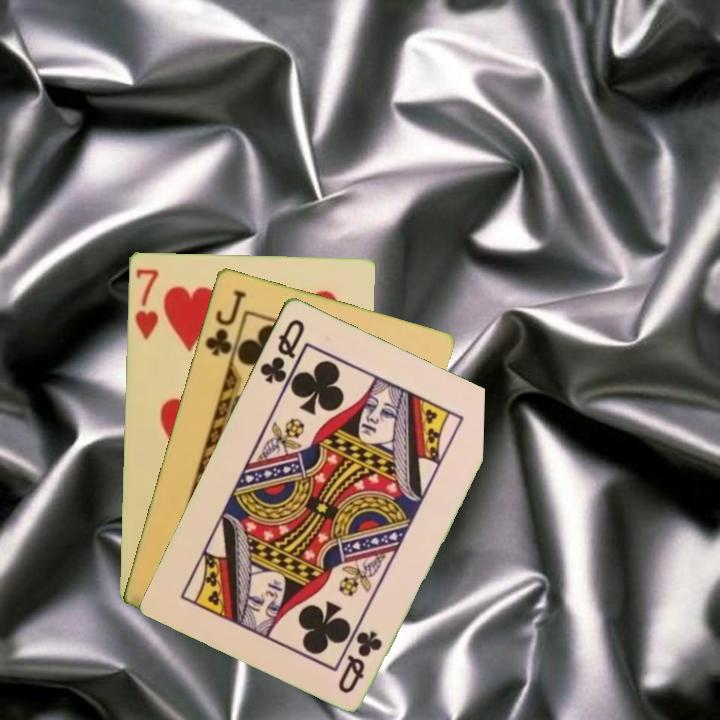7h: (131, 264, 161, 343)
Jc: (201, 285, 249, 359)
Qc: (256, 315, 308, 386), (334, 626, 385, 696)
